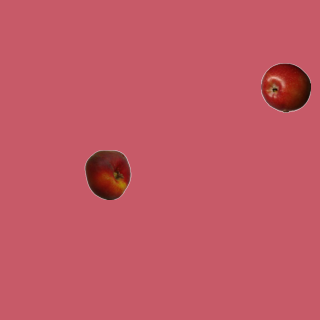Apple Braeburn: (260, 62, 310, 112)
Nectarine Flat: (82, 149, 132, 199)
